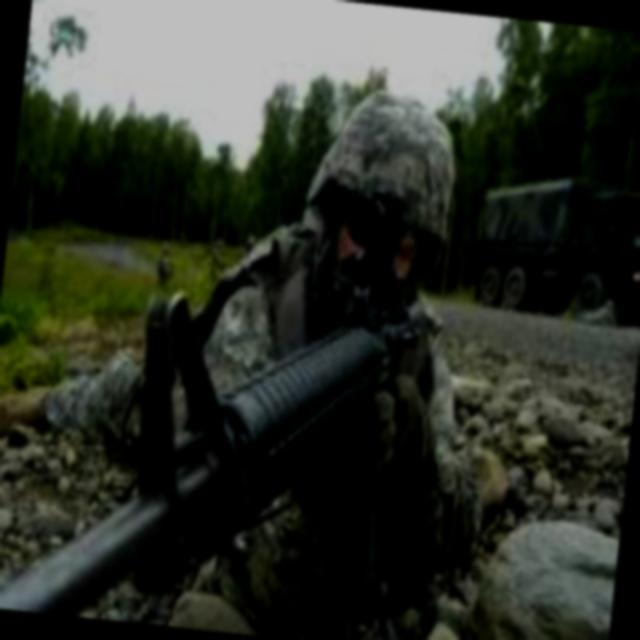m16: (0, 170, 462, 640)
